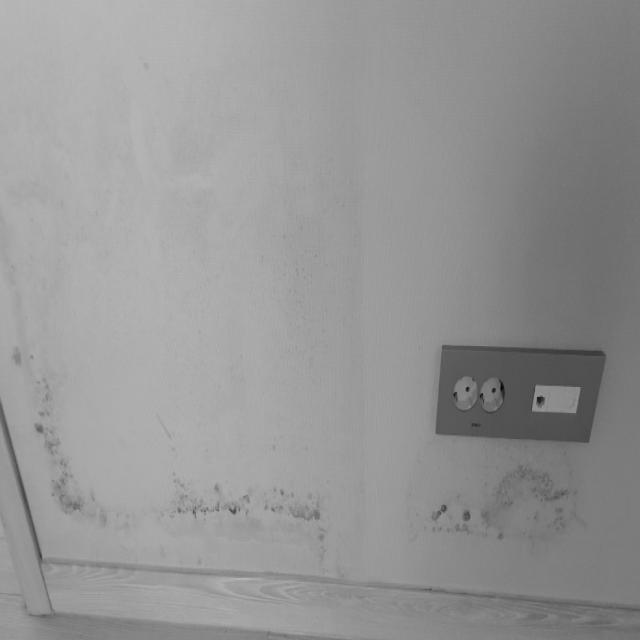stain marks: (7, 49, 355, 308), (13, 332, 335, 572), (394, 427, 582, 558)
